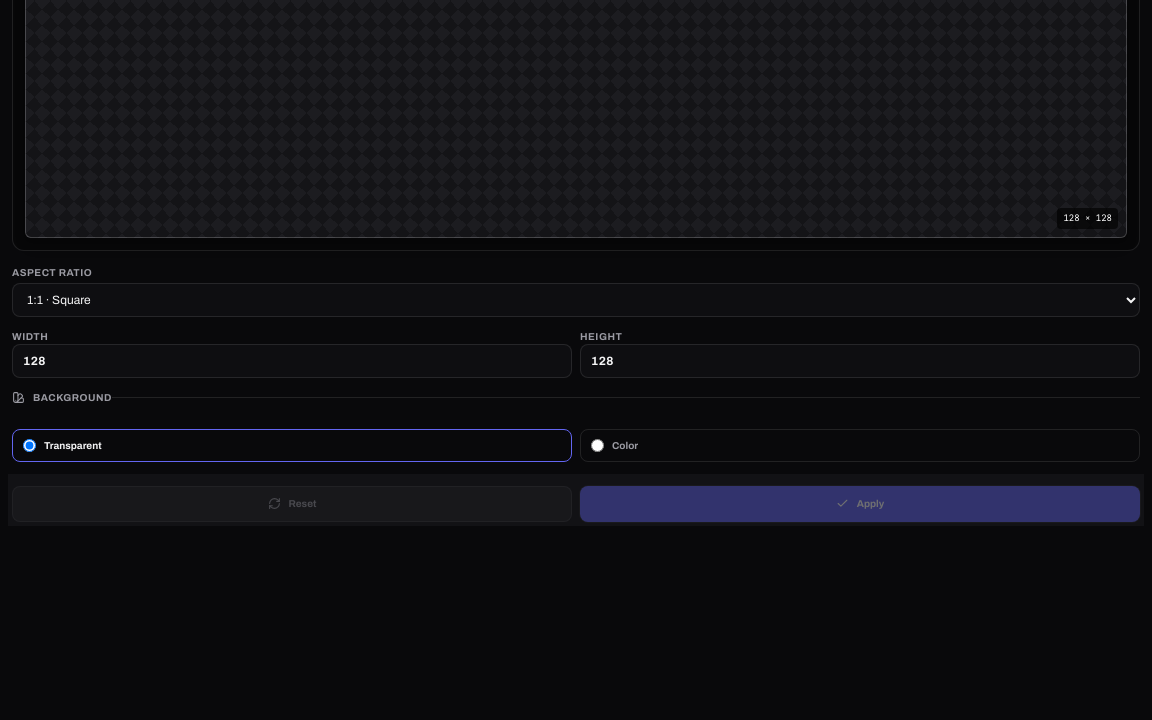
Test: CompositionCanvasSettingsInspector › keeps invalid draft visible, described and unapplied
(page scrolled)
Replace the text in the field labelled "Width" with "0" at point(292, 360), box left=12, top=344, right=572, bottom=378
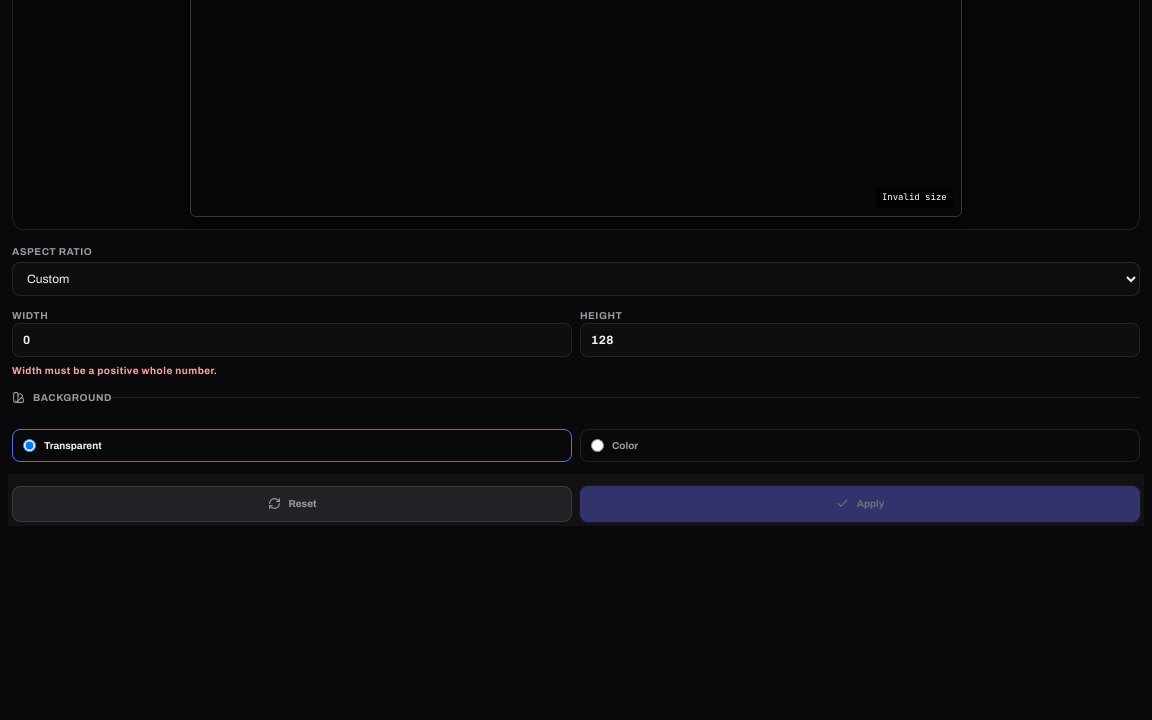
Expected: the button "Apply" is disabled, left=580, top=486, right=1140, bottom=522
Expected: the text "Invalid size" is shown, left=876, top=187, right=953, bottom=208
